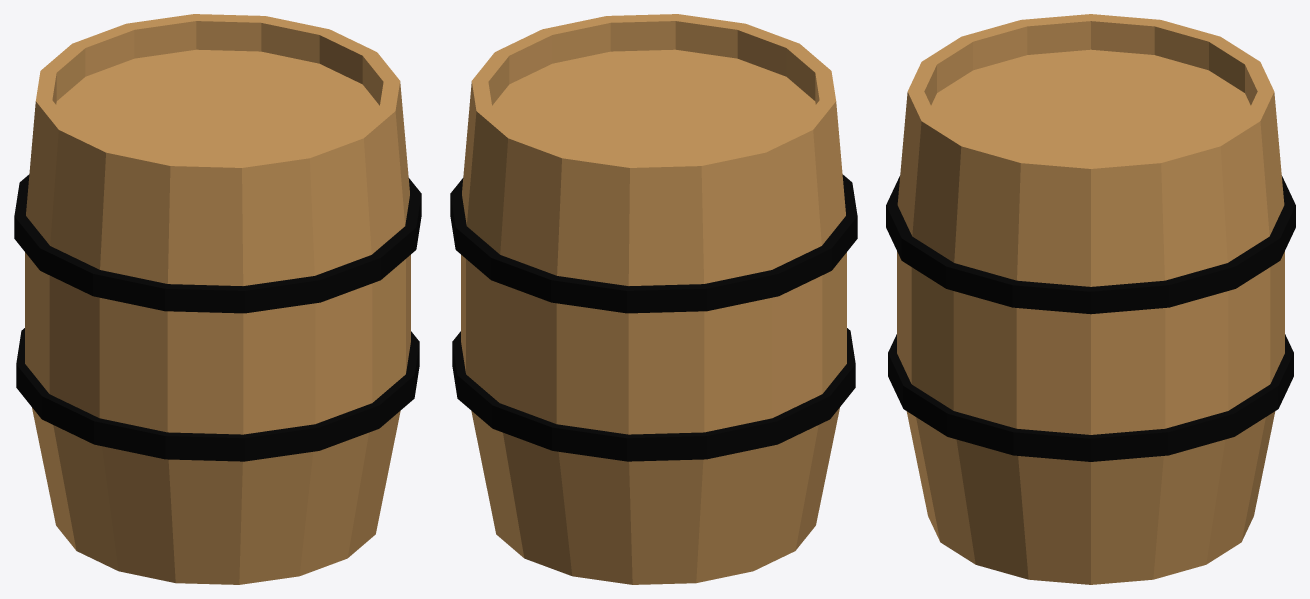
Rendered from Barrel.fbx.
3 renders of one model, left to right at view 1: azimuth 30°, elevation 25°; view 2: azimuth 150°, elevation 25°; view 3: azimuth 270°, elevation 25°, orthographic.
Visible parts, largest first — view 1: Cylinder, Cylinder.001, Cylinder.002; view 2: Cylinder, Cylinder.001, Cylinder.002; view 3: Cylinder, Cylinder.001, Cylinder.002.
Part boxes in pixels (x1,y1,x2,y2): Cylinder: (25,14,410,584); Cylinder.001: (14,174,421,313); Cylinder.002: (16,328,419,461); Cylinder: (461,14,846,584); Cylinder.001: (450,174,857,313); Cylinder.002: (452,328,855,461); Cylinder: (897,14,1284,584); Cylinder.001: (886,175,1295,314); Cylinder.002: (888,334,1293,461).
Size of the model in its own units: 223 by 255 by 223.
